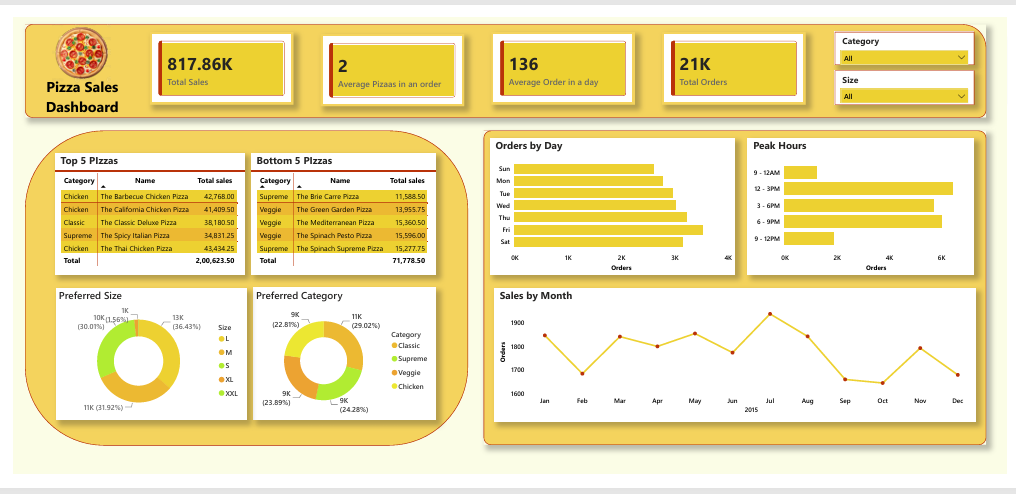

Layout of this report page (visuals, bound fields, positions):
{"tool":"powerbi","page":{"name":"Page 1","canvas":[1850,850],"ordinal":0},"visuals":[{"type":"shape","box":[876,210,936,586],"z":0},{"type":"shape","box":[21.7,210,825,586.7],"z":1000},{"type":"shape","box":[22,12,1790,174],"z":2000},{"type":"textbox","box":[5,110,246.7,75],"z":3000},{"type":"image","box":[46,12,164,108],"z":4000},{"type":"clusteredBarChart","title":" Peak Hours ","fields":{"Category":["Orders.Time Slot"],"Y":["ALL MEASURES.Orders"]},"box":[1368,224,422,254],"z":5000},{"type":"clusteredBarChart","title":"Orders by Day","fields":{"Category":["Date table.DAY"],"Y":["ALL MEASURES.Orders"]},"box":[888,224,456,254],"z":6000},{"type":"lineChart","title":"Sales by Month","fields":{"Category":["Date table.YEAR","Date table.MONTH"],"Y":["ALL MEASURES.Orders"]},"box":[896,504,896,248],"z":7000},{"type":"donutChart","title":"Preferred Category","fields":{"Category":["Pizza Types.Category"],"Y":["ALL MEASURES.Orders"]},"box":[446.7,503.3,340,246.7],"z":8000},{"type":"tableEx","title":"Top 5 PIzzas","fields":{"Values":["Pizza Types.Category","Pizza Types.Name","ALL MEASURES.Total sales"]},"box":[78.3,251.7,351.7,226.7],"z":9000},{"type":"donutChart","title":"Preferred Size","fields":{"Category":["Pizzas.Size"],"Y":["ALL MEASURES.Orders"]},"box":[80,504,354,246],"z":10000},{"type":"tableEx","title":"Bottom 5 PIzzas","fields":{"Values":["Pizza Types.Category","Pizza Types.Name","ALL MEASURES.Total sales"]},"box":[443.3,251.7,343.3,226.7],"z":11000},{"type":"cardVisual","fields":{"Data":["ALL MEASURES.Total sales"]},"box":[254,26,268,136],"z":12000},{"type":"slicer","fields":{"Values":["Pizza Types.Category"]},"box":[1530,26,260,62],"z":13000},{"type":"slicer","fields":{"Values":["Pizzas.Size"]},"box":[1530,98,260,64],"z":14000},{"type":"cardVisual","fields":{"Data":["ALL MEASURES.Orders"]},"box":[1208,26,268,136],"z":15000},{"type":"cardVisual","fields":{"Data":["ALL MEASURES.AVG orders in a day"]},"box":[890.1,26,268,136],"z":16000},{"type":"cardVisual","fields":{"Data":["ALL MEASURES.avg pizzas in an order"]},"box":[571.9,30,268.3,135],"z":17000}]}

Visuals, with their boxes in screenshot pixels (x1, y1, x2, y2):
shape: 482,127,989,444
shape: 20,127,467,445
shape: 20,20,989,114
textbox: 11,73,144,113
image: 33,20,122,78
" Peak Hours " clusteredBarChart: 749,135,977,272
"Orders by Day" clusteredBarChart: 489,135,736,272
"Sales by Month" lineChart: 493,286,978,421
"Preferred Category" donutChart: 250,286,434,419
"Top 5 PIzzas" tableEx: 50,150,241,272
"Preferred Size" donutChart: 51,286,243,419
"Bottom 5 PIzzas" tableEx: 248,150,434,272
cardVisual - ALL MEASURES.Total sales: 146,27,291,101
slicer - Pizza Types.Category: 837,27,977,61
slicer - Pizzas.Size: 837,66,977,101
cardVisual - ALL MEASURES.Orders: 662,27,807,101
cardVisual - ALL MEASURES.AVG orders in a day: 490,27,635,101
cardVisual - ALL MEASURES.avg pizzas in an order: 318,29,463,103
